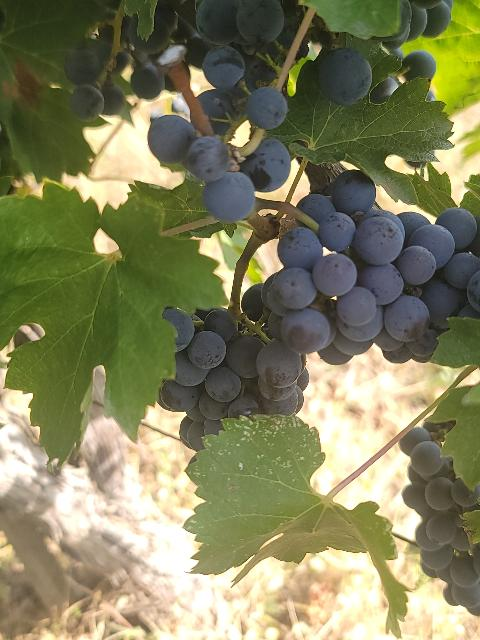grapes: (279, 170, 480, 364), (159, 309, 305, 451), (399, 426, 480, 616)
